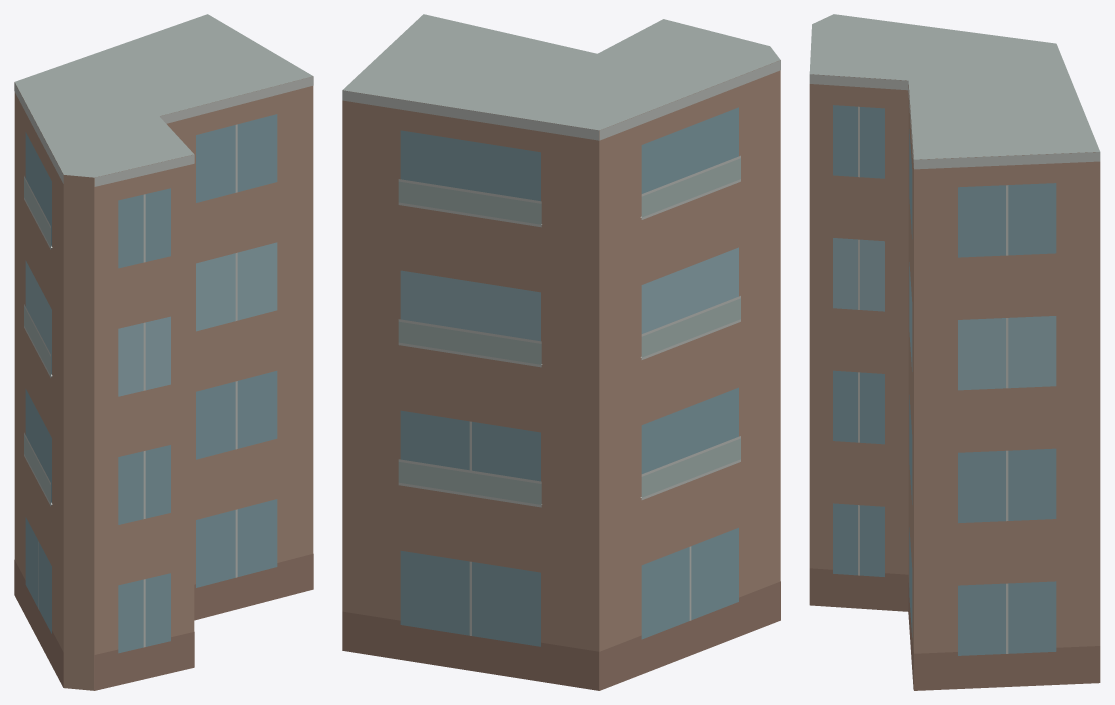
File: survey-upis-33029010.glb
3 views of the same model, side by side, from view 1: azimuth 30°, elevation 25°; view 2: azimuth 150°, elevation 25°; view 3: azimuth 270°, elevation 25° (orthographic). The views are drawn at different scales.
Visible parts, largest first — view 1: survey-upis-33029010.tmp; view 2: survey-upis-33029010.tmp; view 3: survey-upis-33029010.tmp.
Part boxes in pixels (x1,y1,x2,y2): survey-upis-33029010.tmp: (14,14,313,690); survey-upis-33029010.tmp: (342,14,780,690); survey-upis-33029010.tmp: (809,14,1100,690).
Bounding box in the file's own units: 7.83 × 13.3 × 6.61.
